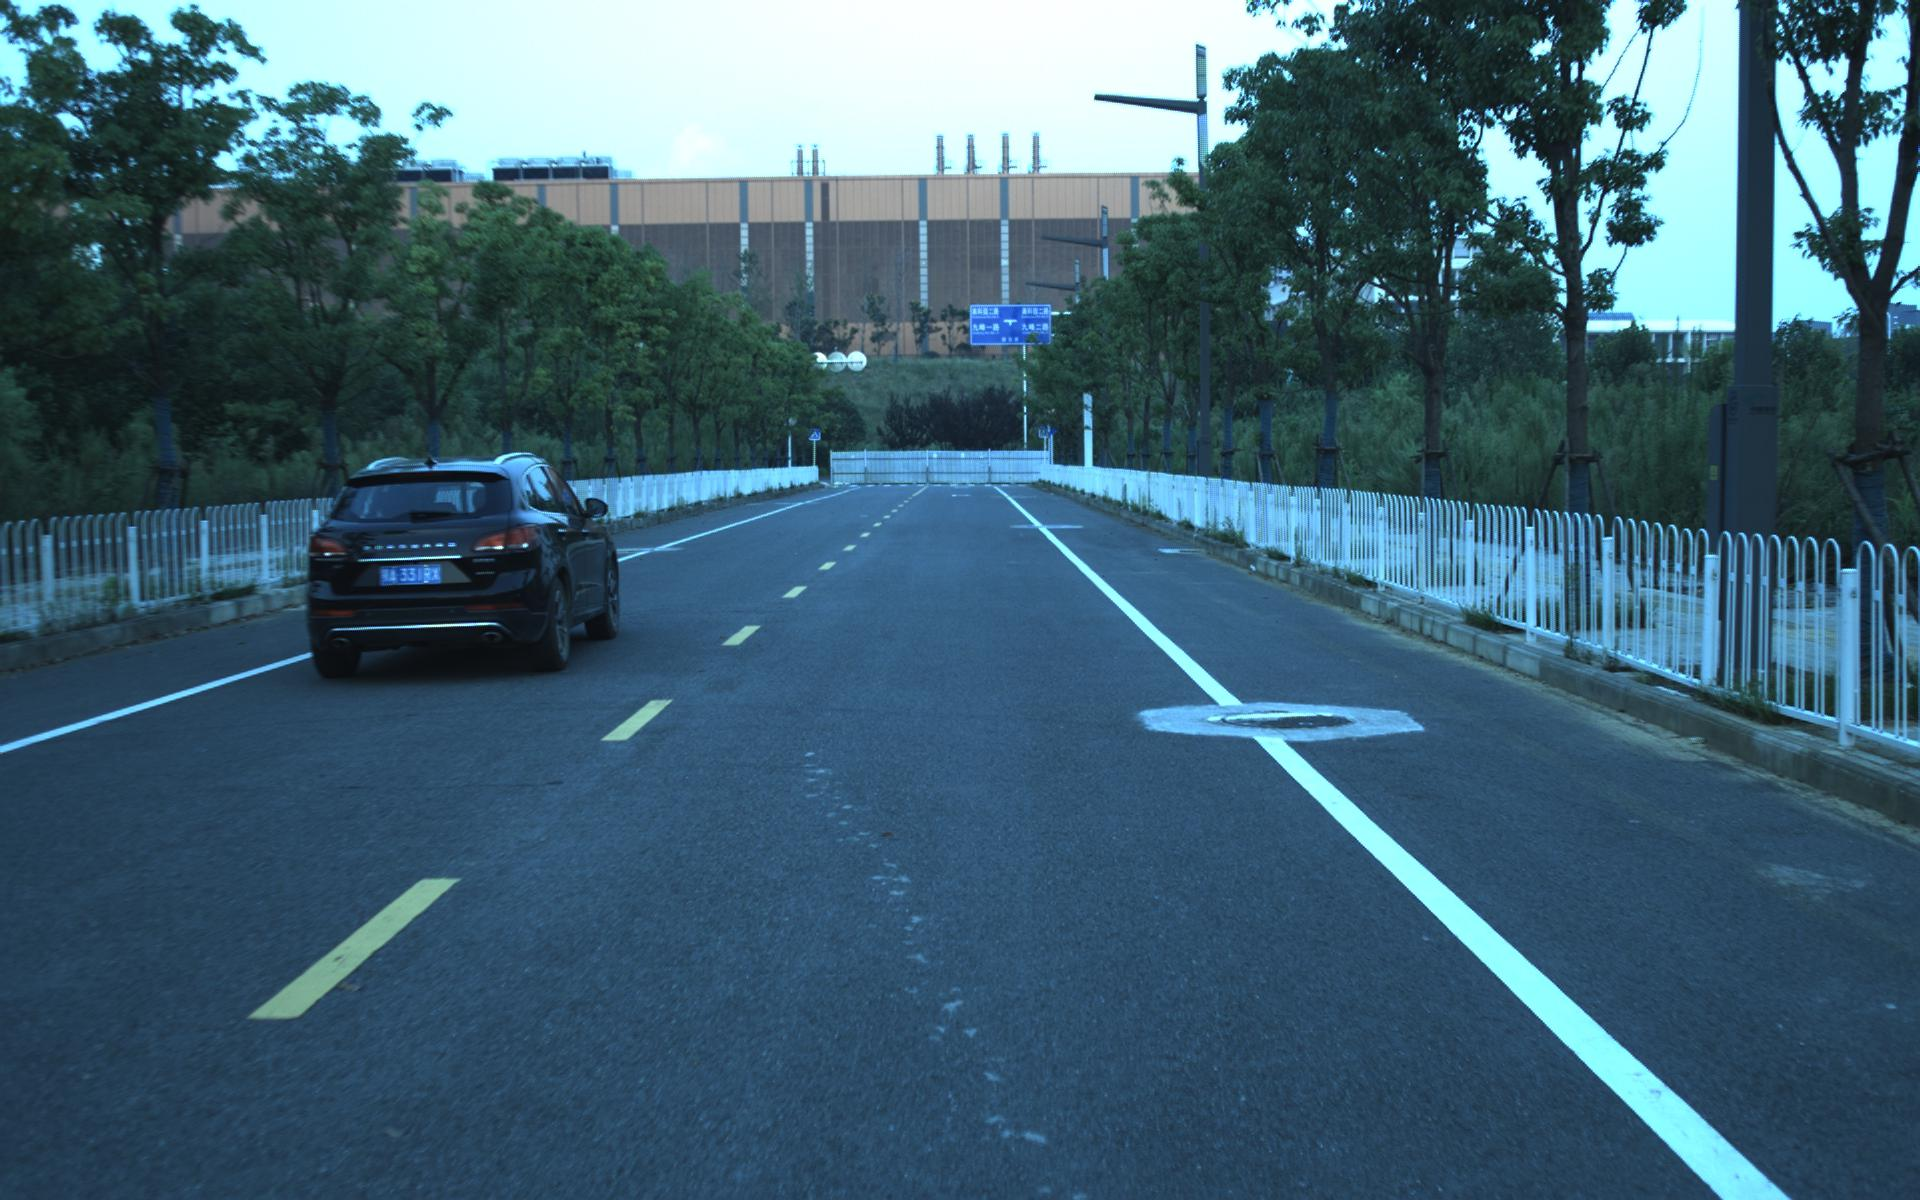Car: (292, 445, 628, 680)
